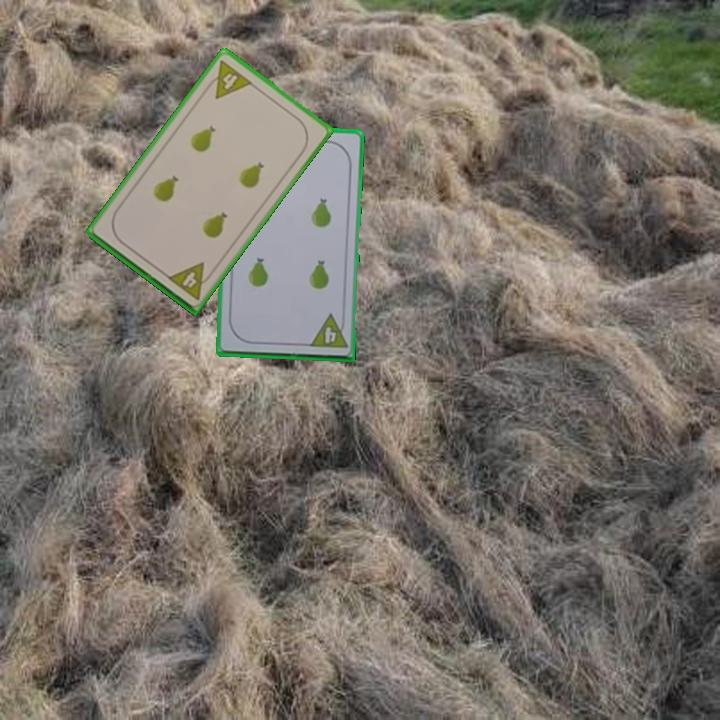4p: (201, 56, 255, 102), (163, 259, 217, 303), (306, 311, 350, 351)
